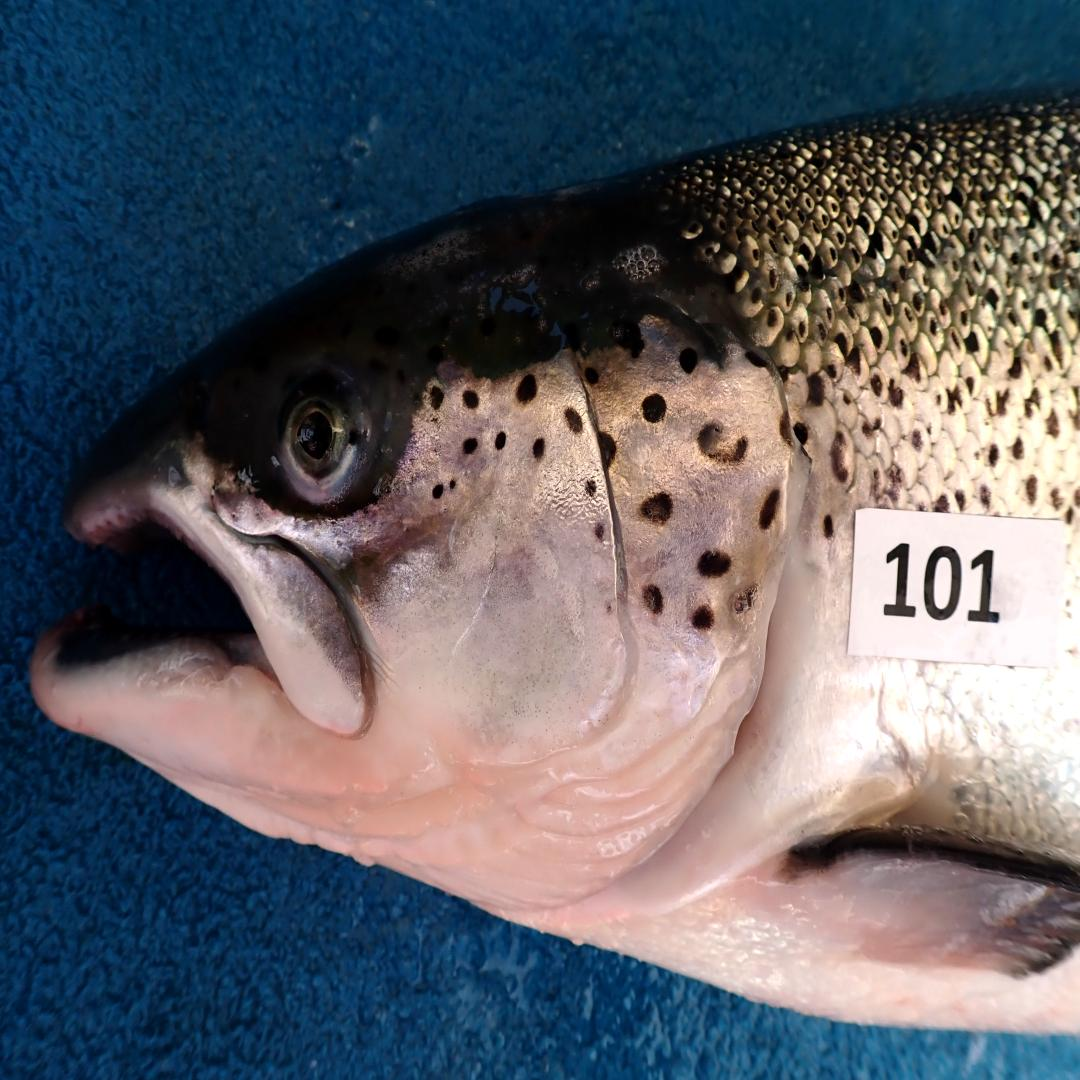roi: (367, 315, 791, 923)
